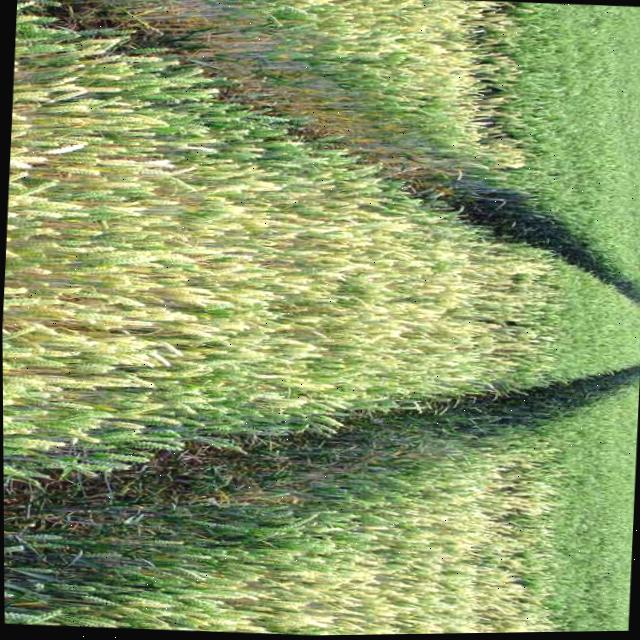healthy_wheat: (1, 183, 367, 425), (250, 32, 516, 196), (7, 25, 251, 198), (249, 471, 461, 637), (351, 190, 516, 397), (3, 500, 249, 636), (87, 0, 640, 57), (515, 47, 640, 249), (546, 390, 640, 634), (2, 401, 228, 498), (465, 442, 559, 635), (517, 264, 640, 385), (358, 434, 476, 478), (472, 412, 555, 446), (14, 0, 77, 41)
